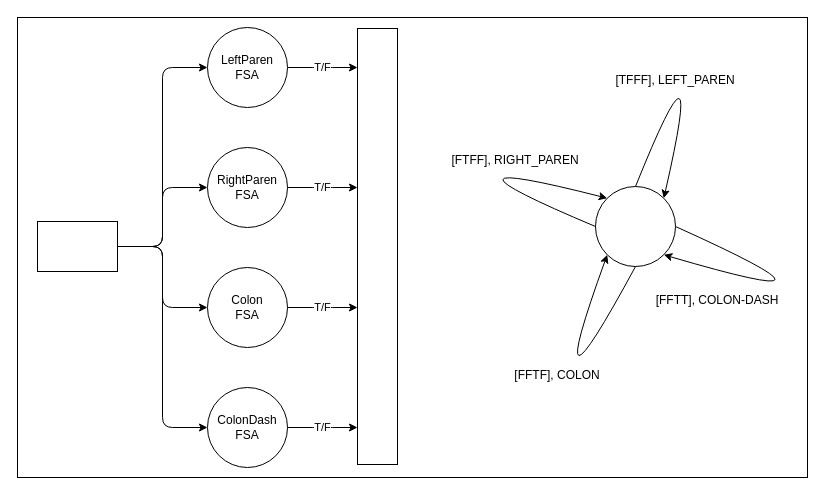
Image size: 825x495. Some labels were removed from this diagram. Each missing label, with the centre of its shape:
input string: point 77,246
Manager FSM: point 635,226
output of collection of FSAs: point 377,246
